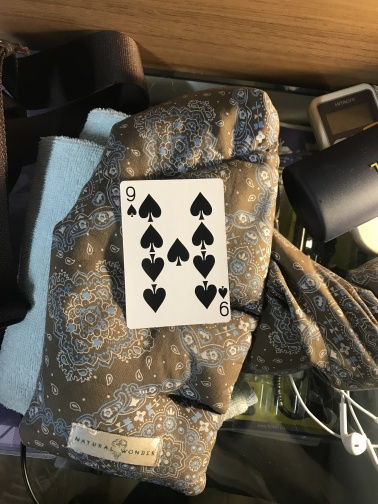nine: (118, 177, 232, 331)
